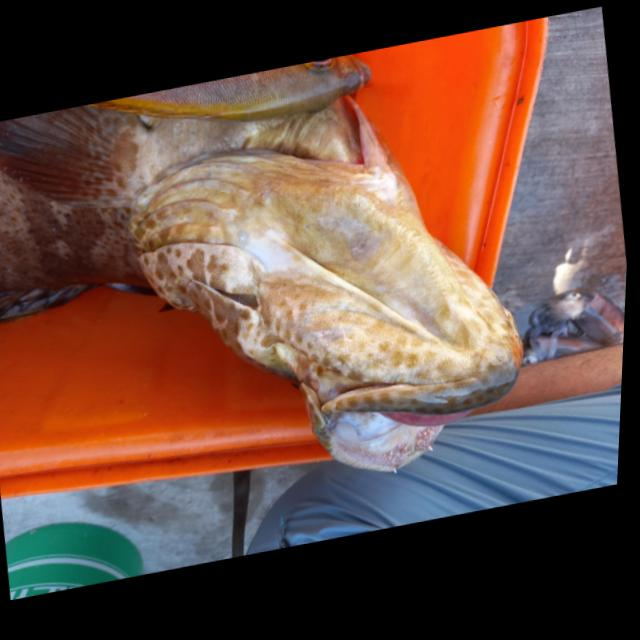Groupers: (0, 23, 548, 554)
